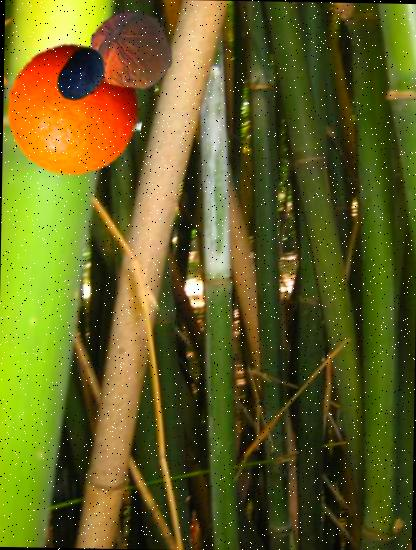Blueberry: (52, 46, 112, 105)
Orange: (5, 40, 145, 180)
Walnut: (88, 7, 174, 93)
